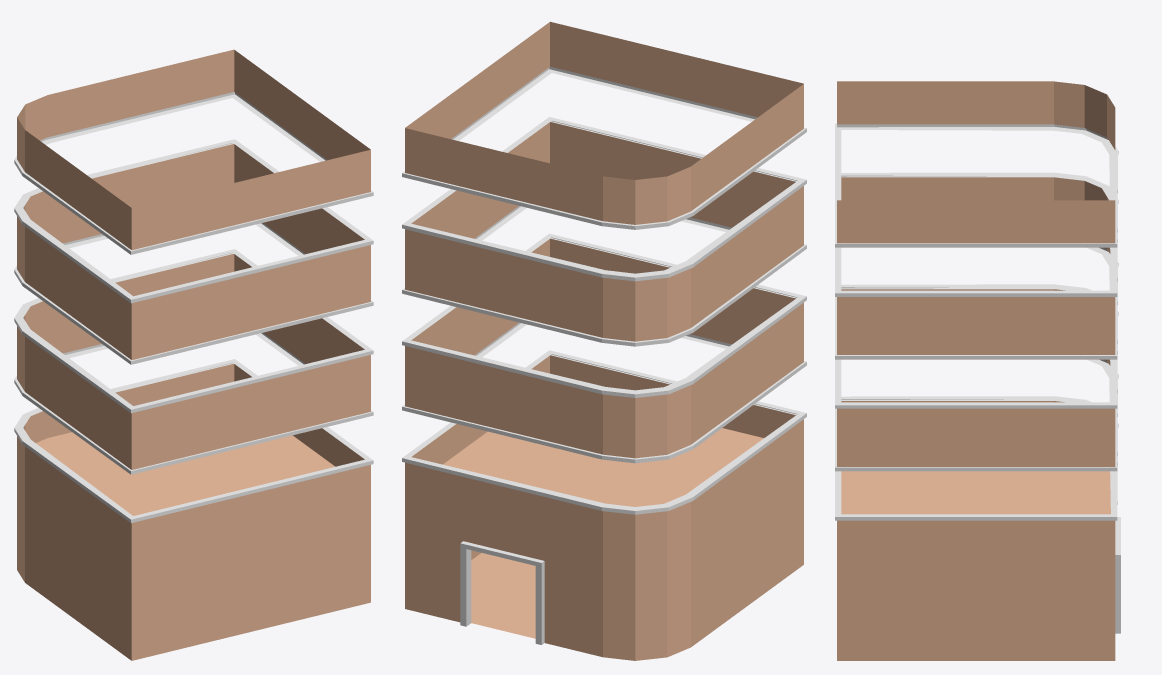
The model's file is Bld_C_high_L2_A.fbx.
3 renders of one model, left to right at view 1: azimuth 30°, elevation 25°; view 2: azimuth 150°, elevation 25°; view 3: azimuth 270°, elevation 25°, orthographic. The views are drawn at different scales.
Parts seen in each view (by area): view 1: Bld_C_high_L2_A_LOD0; view 2: Bld_C_high_L2_A_LOD0; view 3: Bld_C_high_L2_A_LOD0.
Boxes of the visible parts, box(x1,y1,x2,y2) form: Bld_C_high_L2_A_LOD0: box(14, 49, 373, 660); Bld_C_high_L2_A_LOD0: box(402, 21, 806, 660); Bld_C_high_L2_A_LOD0: box(835, 81, 1120, 660).
Size of what is drawn, in the model's own units: 1300 by 2862 by 1423.
1 material, 1 textured.
